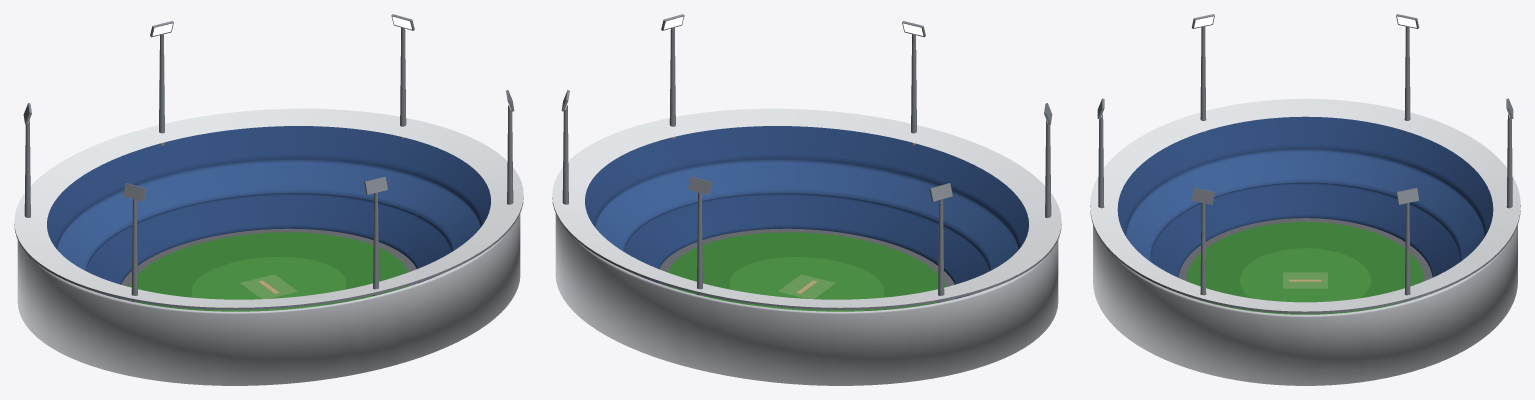
The model's file is stadium-oval.glb.
3 views of the same model, side by side, from view 1: azimuth 30°, elevation 25°; view 2: azimuth 150°, elevation 25°; view 3: azimuth 270°, elevation 25° (orthographic). The views are drawn at different scales.
Parts seen in each view (by area): view 1: OuterFacade, RoofRing, MiddleTier, UpperTier, LowerTier, Field, InnerField, Apron, RoofFascia, LightTower3, LightTower2, LightTower5 (+4 smaller); view 2: OuterFacade, RoofRing, MiddleTier, UpperTier, LowerTier, Field, InnerField, Apron, RoofFascia, LightTower4, LightTower5, LightTower2 (+4 smaller); view 3: OuterFacade, RoofRing, MiddleTier, UpperTier, LowerTier, Field, InnerField, Apron, RoofFascia, LightTower1, LightTower6, LightTower3 (+4 smaller).
Part boxes in pixels (box(x1,y1,x2,y2)): OuterFacade: box(17, 213, 520, 385); RoofRing: box(14, 108, 523, 307); MiddleTier: box(57, 158, 480, 270); UpperTier: box(47, 126, 490, 311); LowerTier: box(86, 193, 451, 298); Field: box(129, 232, 408, 310); InnerField: box(191, 257, 346, 311); Apron: box(120, 228, 417, 300); RoofFascia: box(14, 197, 523, 309); LightTower3: box(123, 183, 146, 302); LightTower2: box(364, 176, 387, 296); LightTower5: box(150, 21, 173, 145); OuterFacade: box(555, 213, 1058, 385); RoofRing: box(552, 108, 1061, 307); MiddleTier: box(595, 158, 1018, 270); UpperTier: box(585, 126, 1028, 311); LowerTier: box(624, 193, 989, 298); Field: box(667, 232, 946, 310); InnerField: box(729, 257, 884, 311); Apron: box(658, 228, 955, 300); RoofFascia: box(552, 197, 1061, 309); LightTower4: box(929, 183, 952, 302); LightTower5: box(688, 176, 711, 296); LightTower2: box(902, 21, 925, 145); OuterFacade: box(1093, 225, 1517, 385); RoofRing: box(1090, 98, 1520, 311); MiddleTier: box(1126, 148, 1484, 261); UpperTier: box(1117, 116, 1493, 235); LowerTier: box(1150, 182, 1460, 277); Field: box(1186, 222, 1424, 314); InnerField: box(1240, 248, 1370, 311); Apron: box(1178, 218, 1432, 297); RoofFascia: box(1090, 205, 1520, 313); LightTower1: box(1192, 188, 1214, 301); LightTower6: box(1396, 188, 1418, 301); LightTower3: box(1191, 14, 1214, 132).
Size of what is drawn, in the model's own units: 313 by 122 by 268.
3 materials, 3 textured.
